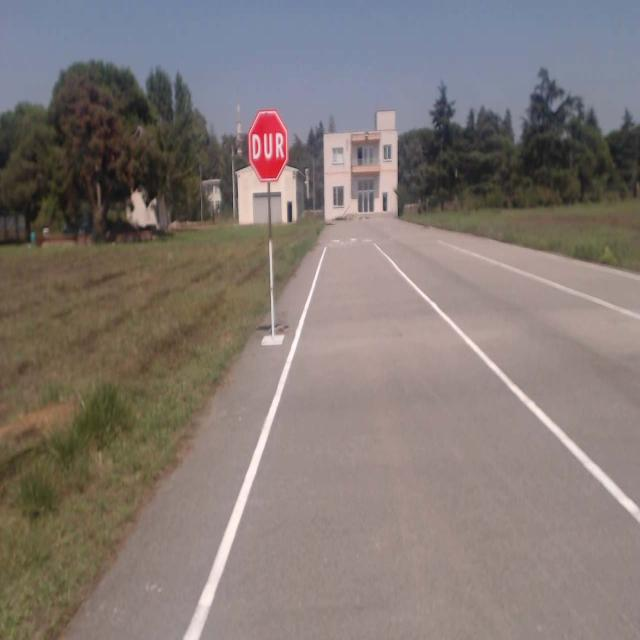dur: (248, 112, 287, 181)
